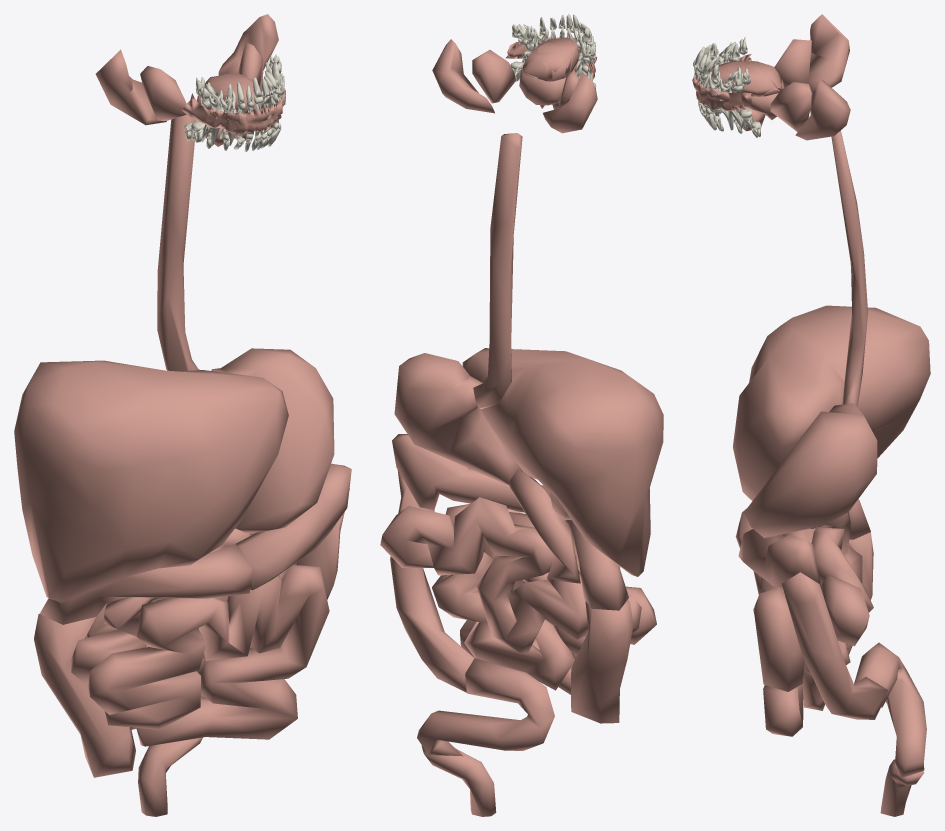
Rendered from pediatric_child_5y_male.digestive.LOD3.glb.
3 renders of one model, left to right at view 1: azimuth 30°, elevation 25°; view 2: azimuth 150°, elevation 25°; view 3: azimuth 270°, elevation 25°, orthographic. The views are drawn at different scales.
Parts seen in each view (by area): view 1: PEDIATRIC.CHILD_5Y.MALE.DIGESTIVE.LIVER, PEDIATRIC.CHILD_5Y.MALE.DIGESTIVE.SMALL_INTESTINE_WALL, PEDIATRIC.CHILD_5Y.MALE.DIGESTIVE.STOMACH_WALL, PEDIATRIC.CHILD_5Y.MALE.DIGESTIVE.ASCENDING_COLON_WALL, PEDIATRIC.CHILD_5Y.MALE.DIGESTIVE.OESOPHAGUS_WALL, PEDIATRIC.CHILD_5Y.MALE.DIGESTIVE.TRANSVERSE_COLON_WALL.R, PEDIATRIC.CHILD_5Y.MALE.DIGESTIVE.TRANSVERSE_COLON_WALL.L, PEDIATRIC.CHILD_5Y.MALE.DIGESTIVE.SALIVARY_GLANDS.R, PEDIATRIC.CHILD_5Y.MALE.DIGESTIVE.RECTUM_WALL, PEDIATRIC.CHILD_5Y.MALE.DIGESTIVE.SALIVARY_GLANDS.L, PEDIATRIC.CHILD_5Y.MALE.DIGESTIVE.ORAL_MUCOSA_LIP_AND_CHEEKS, PEDIATRIC.CHILD_5Y.MALE.DIGESTIVE.PERMANENT_CEMENTUM (+4 smaller); view 2: PEDIATRIC.CHILD_5Y.MALE.DIGESTIVE.SMALL_INTESTINE_WALL, PEDIATRIC.CHILD_5Y.MALE.DIGESTIVE.LIVER, PEDIATRIC.CHILD_5Y.MALE.DIGESTIVE.STOMACH_WALL, PEDIATRIC.CHILD_5Y.MALE.DIGESTIVE.SIGMOID_COLON_WALL, PEDIATRIC.CHILD_5Y.MALE.DIGESTIVE.OESOPHAGUS_WALL, PEDIATRIC.CHILD_5Y.MALE.DIGESTIVE.ASCENDING_COLON_WALL, PEDIATRIC.CHILD_5Y.MALE.DIGESTIVE.DESCENDING_COLON_WALL, PEDIATRIC.CHILD_5Y.MALE.DIGESTIVE.TRANSVERSE_COLON_WALL.L, PEDIATRIC.CHILD_5Y.MALE.DIGESTIVE.SALIVARY_GLANDS.L, PEDIATRIC.CHILD_5Y.MALE.DIGESTIVE.TRANSVERSE_COLON_WALL.R, PEDIATRIC.CHILD_5Y.MALE.DIGESTIVE.RECTUM_WALL, PEDIATRIC.CHILD_5Y.MALE.DIGESTIVE.SALIVARY_GLANDS.R (+4 smaller); view 3: PEDIATRIC.CHILD_5Y.MALE.DIGESTIVE.LIVER, PEDIATRIC.CHILD_5Y.MALE.DIGESTIVE.SMALL_INTESTINE_WALL, PEDIATRIC.CHILD_5Y.MALE.DIGESTIVE.STOMACH_WALL, PEDIATRIC.CHILD_5Y.MALE.DIGESTIVE.DESCENDING_COLON_WALL, PEDIATRIC.CHILD_5Y.MALE.DIGESTIVE.SIGMOID_COLON_WALL, PEDIATRIC.CHILD_5Y.MALE.DIGESTIVE.OESOPHAGUS_WALL, PEDIATRIC.CHILD_5Y.MALE.DIGESTIVE.SALIVARY_GLANDS.L, PEDIATRIC.CHILD_5Y.MALE.DIGESTIVE.SALIVARY_GLANDS.R, PEDIATRIC.CHILD_5Y.MALE.DIGESTIVE.TRANSVERSE_COLON_WALL.L, PEDIATRIC.CHILD_5Y.MALE.DIGESTIVE.PERMANENT_CEMENTUM, PEDIATRIC.CHILD_5Y.MALE.DIGESTIVE.RECTUM_WALL, PEDIATRIC.CHILD_5Y.MALE.DIGESTIVE.ORAL_MUCOSA_LIP_AND_CHEEKS (+7 smaller).
Boxes of the visible parts, x1,y1,x2,y2 form: PEDIATRIC.CHILD_5Y.MALE.DIGESTIVE.LIVER: [14, 360, 288, 602]; PEDIATRIC.CHILD_5Y.MALE.DIGESTIVE.SMALL_INTESTINE_WALL: [71, 529, 329, 746]; PEDIATRIC.CHILD_5Y.MALE.DIGESTIVE.STOMACH_WALL: [211, 348, 334, 533]; PEDIATRIC.CHILD_5Y.MALE.DIGESTIVE.ASCENDING_COLON_WALL: [34, 614, 135, 777]; PEDIATRIC.CHILD_5Y.MALE.DIGESTIVE.OESOPHAGUS_WALL: [157, 114, 199, 371]; PEDIATRIC.CHILD_5Y.MALE.DIGESTIVE.TRANSVERSE_COLON_WALL.R: [39, 544, 251, 624]; PEDIATRIC.CHILD_5Y.MALE.DIGESTIVE.TRANSVERSE_COLON_WALL.L: [236, 463, 351, 590]; PEDIATRIC.CHILD_5Y.MALE.DIGESTIVE.SALIVARY_GLANDS.R: [95, 49, 235, 146]; PEDIATRIC.CHILD_5Y.MALE.DIGESTIVE.RECTUM_WALL: [138, 737, 202, 816]; PEDIATRIC.CHILD_5Y.MALE.DIGESTIVE.SALIVARY_GLANDS.L: [218, 14, 278, 141]; PEDIATRIC.CHILD_5Y.MALE.DIGESTIVE.ORAL_MUCOSA_LIP_AND_CHEEKS: [181, 88, 285, 133]; PEDIATRIC.CHILD_5Y.MALE.DIGESTIVE.PERMANENT_CEMENTUM: [185, 54, 281, 151]; PEDIATRIC.CHILD_5Y.MALE.DIGESTIVE.SMALL_INTESTINE_WALL: [380, 469, 656, 694]; PEDIATRIC.CHILD_5Y.MALE.DIGESTIVE.LIVER: [462, 348, 663, 576]; PEDIATRIC.CHILD_5Y.MALE.DIGESTIVE.STOMACH_WALL: [394, 353, 523, 484]; PEDIATRIC.CHILD_5Y.MALE.DIGESTIVE.SIGMOID_COLON_WALL: [417, 658, 554, 756]; PEDIATRIC.CHILD_5Y.MALE.DIGESTIVE.OESOPHAGUS_WALL: [473, 133, 522, 409]; PEDIATRIC.CHILD_5Y.MALE.DIGESTIVE.ASCENDING_COLON_WALL: [570, 600, 633, 723]; PEDIATRIC.CHILD_5Y.MALE.DIGESTIVE.DESCENDING_COLON_WALL: [390, 470, 474, 692]; PEDIATRIC.CHILD_5Y.MALE.DIGESTIVE.TRANSVERSE_COLON_WALL.L: [392, 434, 540, 512]; PEDIATRIC.CHILD_5Y.MALE.DIGESTIVE.SALIVARY_GLANDS.L: [432, 39, 544, 113]; PEDIATRIC.CHILD_5Y.MALE.DIGESTIVE.TRANSVERSE_COLON_WALL.R: [540, 485, 628, 610]; PEDIATRIC.CHILD_5Y.MALE.DIGESTIVE.RECTUM_WALL: [421, 746, 496, 816]; PEDIATRIC.CHILD_5Y.MALE.DIGESTIVE.SALIVARY_GLANDS.R: [543, 70, 597, 133]; PEDIATRIC.CHILD_5Y.MALE.DIGESTIVE.LIVER: [733, 305, 930, 500]; PEDIATRIC.CHILD_5Y.MALE.DIGESTIVE.SMALL_INTESTINE_WALL: [753, 512, 873, 736]; PEDIATRIC.CHILD_5Y.MALE.DIGESTIVE.STOMACH_WALL: [744, 403, 877, 537]; PEDIATRIC.CHILD_5Y.MALE.DIGESTIVE.DESCENDING_COLON_WALL: [782, 572, 887, 719]; PEDIATRIC.CHILD_5Y.MALE.DIGESTIVE.SIGMOID_COLON_WALL: [854, 642, 926, 777]; PEDIATRIC.CHILD_5Y.MALE.DIGESTIVE.OESOPHAGUS_WALL: [831, 130, 867, 407]; PEDIATRIC.CHILD_5Y.MALE.DIGESTIVE.SALIVARY_GLANDS.L: [733, 80, 850, 140]; PEDIATRIC.CHILD_5Y.MALE.DIGESTIVE.SALIVARY_GLANDS.R: [774, 14, 849, 92]; PEDIATRIC.CHILD_5Y.MALE.DIGESTIVE.TRANSVERSE_COLON_WALL.L: [738, 529, 822, 592]; PEDIATRIC.CHILD_5Y.MALE.DIGESTIVE.PERMANENT_CEMENTUM: [694, 37, 760, 137]; PEDIATRIC.CHILD_5Y.MALE.DIGESTIVE.RECTUM_WALL: [880, 759, 924, 816]; PEDIATRIC.CHILD_5Y.MALE.DIGESTIVE.ORAL_MUCOSA_LIP_AND_CHEEKS: [692, 54, 752, 111].
Bounding box in the file's own units: 0.188 × 0.4794 × 0.1354.
